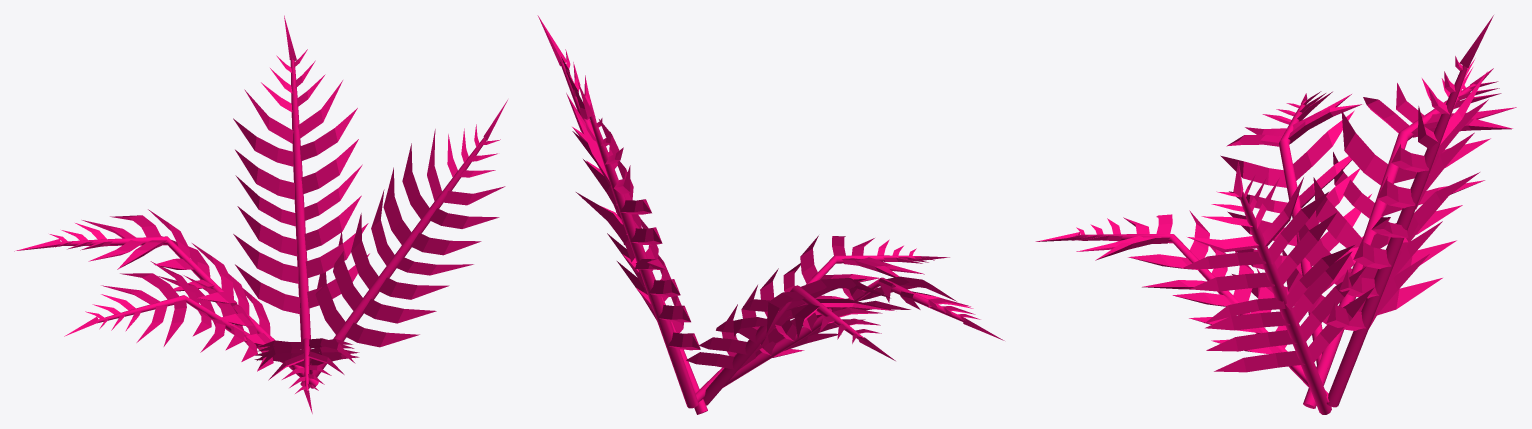
File: SM_SS_Fern.fbx
3 views of the same model, side by side, from view 1: azimuth 30°, elevation 25°; view 2: azimuth 150°, elevation 25°; view 3: azimuth 270°, elevation 25° (orthographic). The views are drawn at different scales.
Parts seen in each view (by area): view 1: SM_SS_Fern; view 2: SM_SS_Fern; view 3: SM_SS_Fern.
Part boxes in pixels (<box>): SM_SS_Fern: <box>14,15,507,413</box>; SM_SS_Fern: <box>537,15,1004,414</box>; SM_SS_Fern: <box>1035,15,1516,414</box>.
Bounding box in the file's own units: 78.45 × 58.43 × 56.84.
